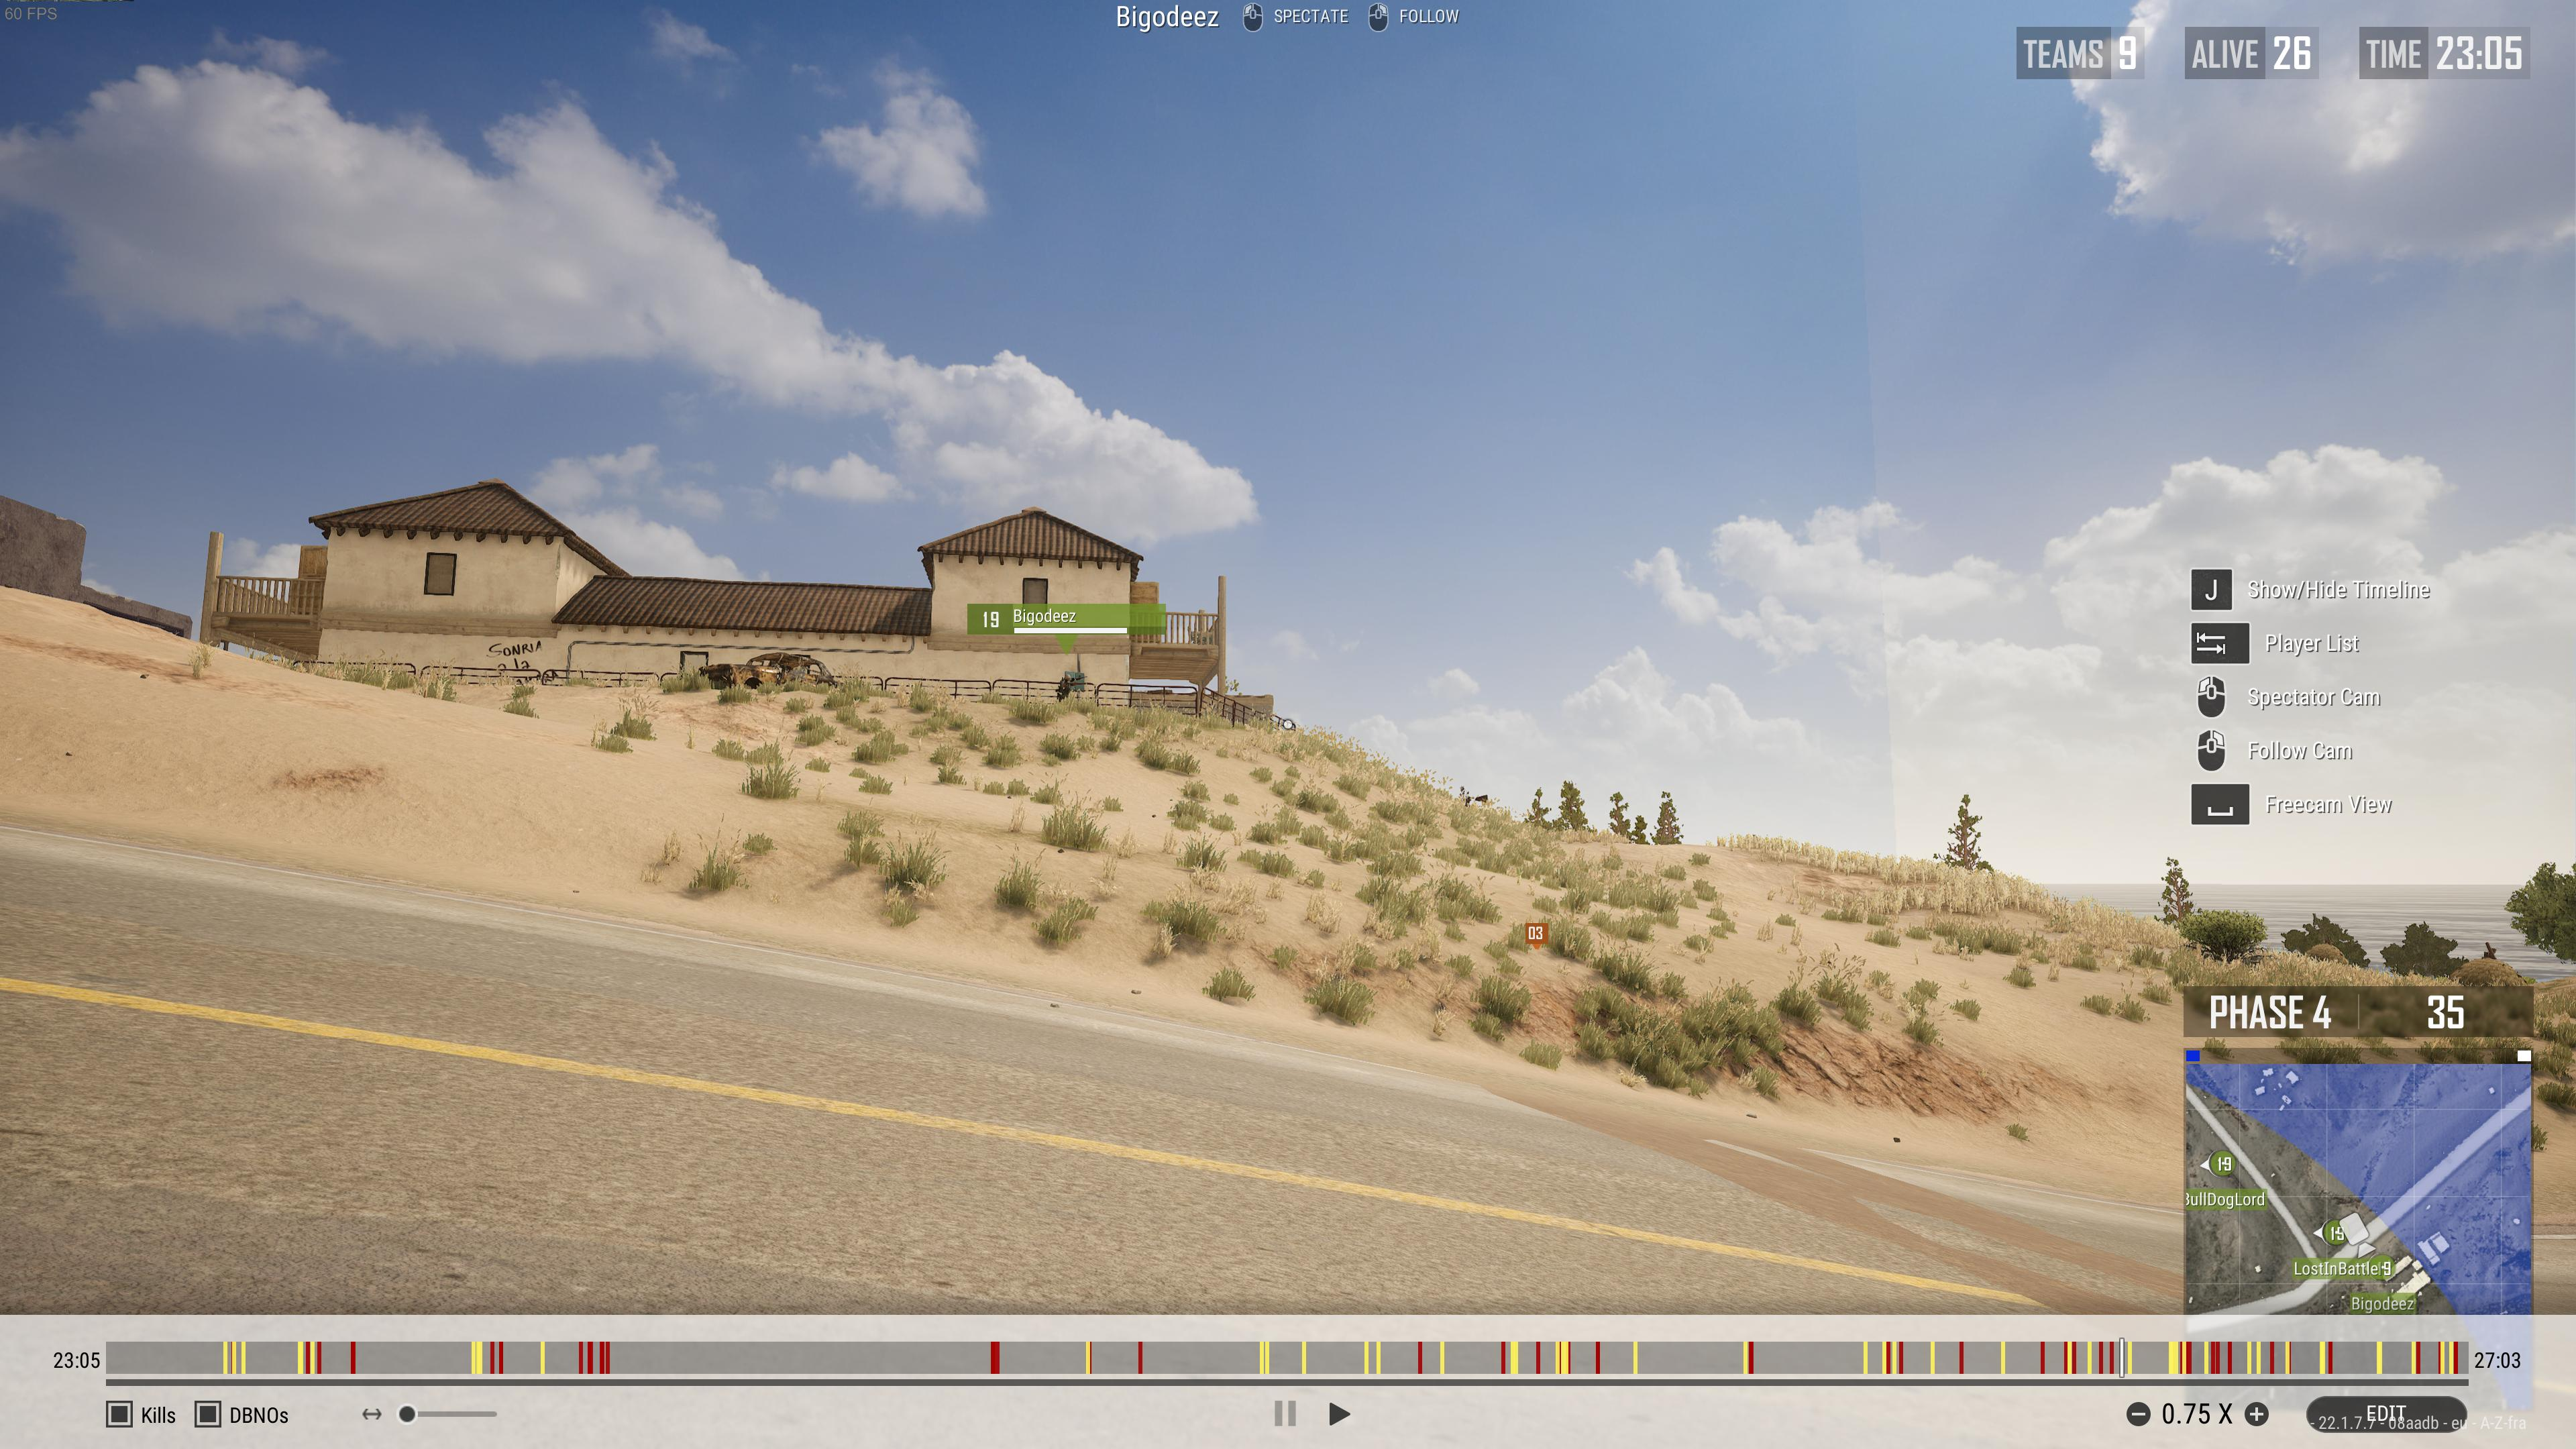enemy: (1056, 674, 1076, 702)
enemy_head: (1063, 674, 1070, 681)
